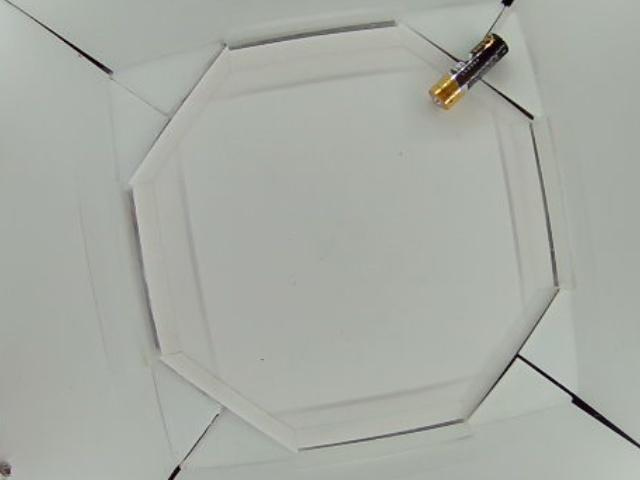Battery: (429, 31, 510, 110)
